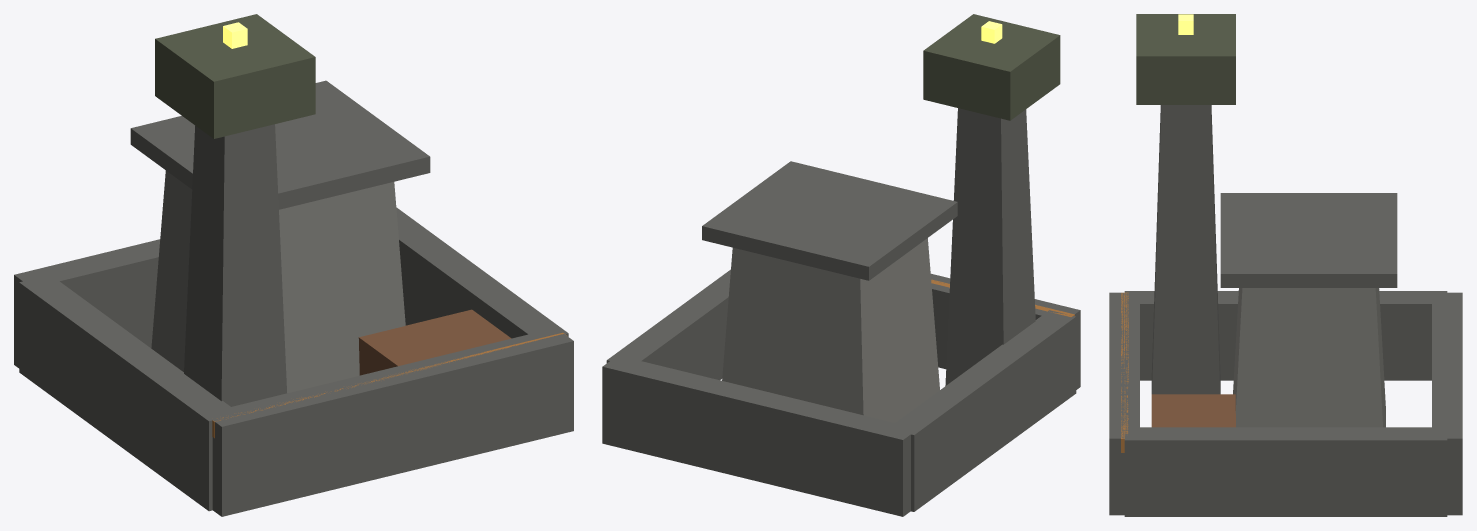
File: wm_settlement_trust.glb
3 renders of one model, left to right at view 1: azimuth 30°, elevation 25°; view 2: azimuth 150°, elevation 25°; view 3: azimuth 270°, elevation 25°, orthographic. The views are drawn at different scales.
Parts seen in each view (by area): view 1: wall_n, keep, tower, wall_w, keep_top, tower_cab, wall_e, wall_s, shed, stripe; view 2: keep, wall_s, tower, keep_top, wall_w, tower_cab, wall_e, wall_n; view 3: wall_e, keep, tower, keep_top, tower_cab, wall_w, wall_s, wall_n, shed, stripe.
Part boxes in pixels (<box>): wall_n: <box>204,328,573,516</box>; keep: <box>151,170,405,393</box>; tower: <box>184,124,286,406</box>; wall_w: <box>19,275,230,511</box>; keep_top: <box>130,80,430,209</box>; tower_cab: <box>155,14,315,138</box>; wall_e: <box>396,207,568,338</box>; wall_s: <box>14,239,160,368</box>; shed: <box>358,309,511,375</box>; stripe: <box>212,332,566,438</box>; keep: <box>722,238,939,422</box>; wall_s: <box>602,355,917,516</box>; tower: <box>945,108,1035,385</box>; keep_top: <box>702,161,957,280</box>; wall_w: <box>890,310,1076,511</box>; tower_cab: <box>923,14,1060,120</box>; wall_e: <box>606,269,730,380</box>; wall_n: <box>930,273,1080,389</box>; wall_e: <box>1124,427,1447,516</box>; keep: <box>1233,288,1385,427</box>; tower: <box>1151,105,1220,394</box>; keep_top: <box>1220,193,1397,287</box>; tower_cab: <box>1136,14,1235,104</box>; wall_w: <box>1124,291,1447,380</box>; wall_s: <box>1432,292,1462,515</box>; wall_n: <box>1109,292,1139,515</box>; shed: <box>1151,394,1235,427</box>; stripe: <box>1121,292,1128,452</box>.
Size of the model in its own units: 9.2 by 10.8 by 9.2.
